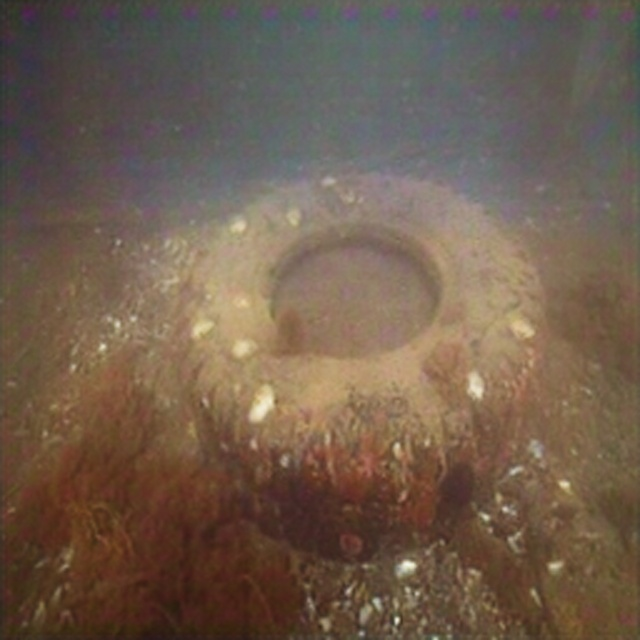mine: (176, 169, 546, 556)
